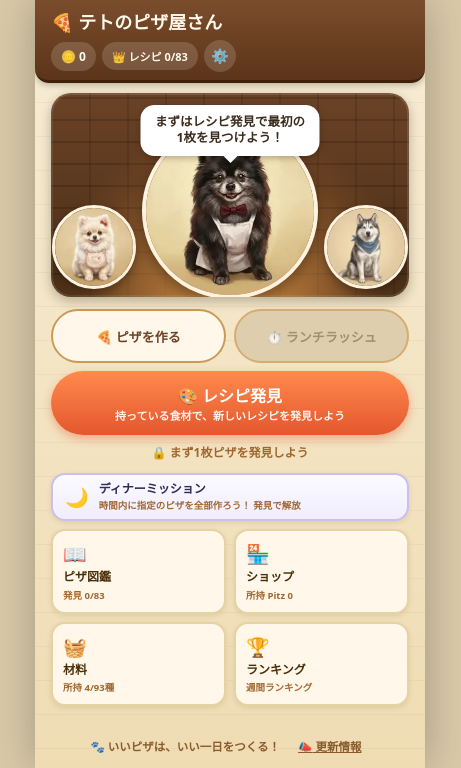
Inventory Screen (read-only stock view) › reflects an already-landed Starter Grant (e.g. onion +40) exactly as persisted
Click the button "🧺 材料 所持 4/93種" at x=138, y=664, box top-left (51, 622), bottom-right (226, 706)
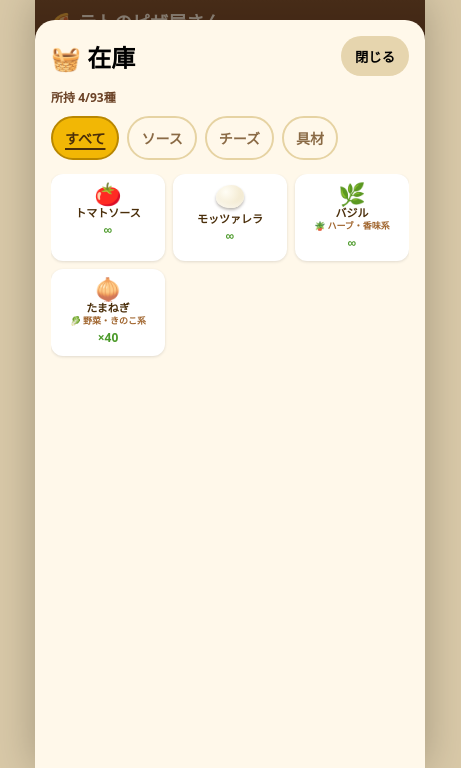
expect the text "×40" is shown: met, box top-left (98, 329), bottom-right (118, 346)
